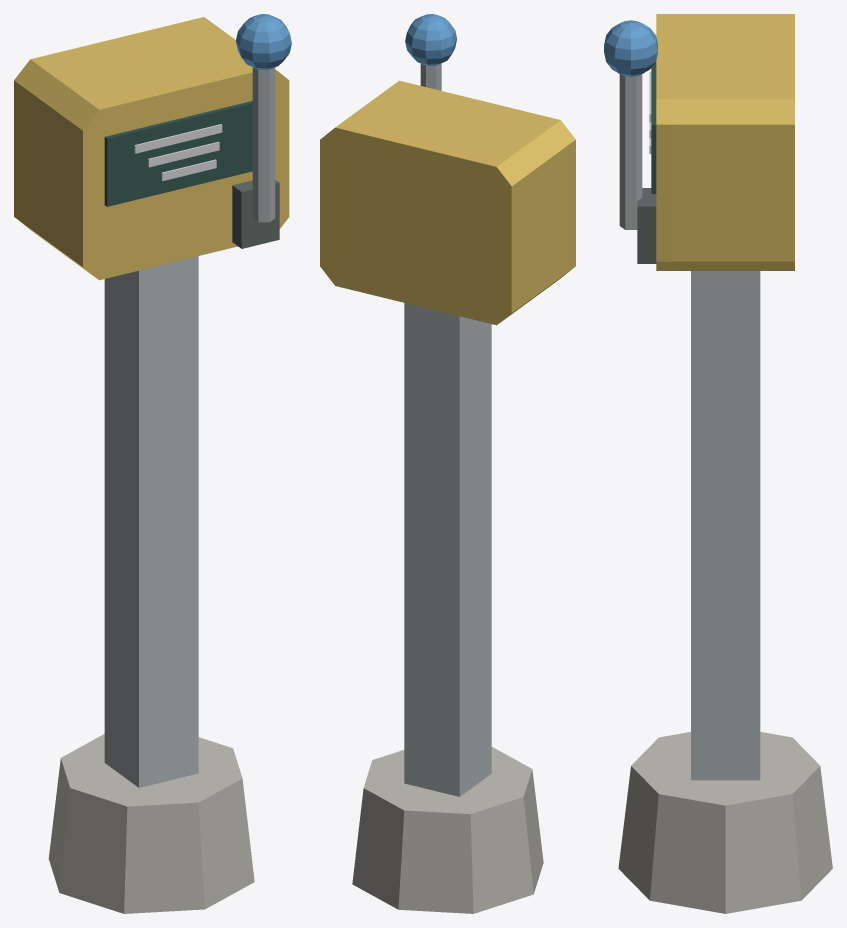
File: row_post.glb
3 renders of one model, left to right at view 1: azimuth 30°, elevation 25°; view 2: azimuth 150°, elevation 25°; view 3: azimuth 270°, elevation 25°, orthographic. The views are drawn at different scales.
Visible parts, largest first — view 1: body, lever; view 2: body, lever; view 3: body, lever.
Part boxes in pixels (bbox=[...]): body: bbox=[14, 17, 289, 913]; lever: bbox=[236, 14, 291, 222]; body: bbox=[320, 80, 575, 913]; lever: bbox=[405, 14, 456, 90]; body: bbox=[618, 14, 832, 913]; lever: bbox=[604, 20, 657, 229].
Bounding box in the file's own units: 0.3802 × 1.53 × 0.3628.
